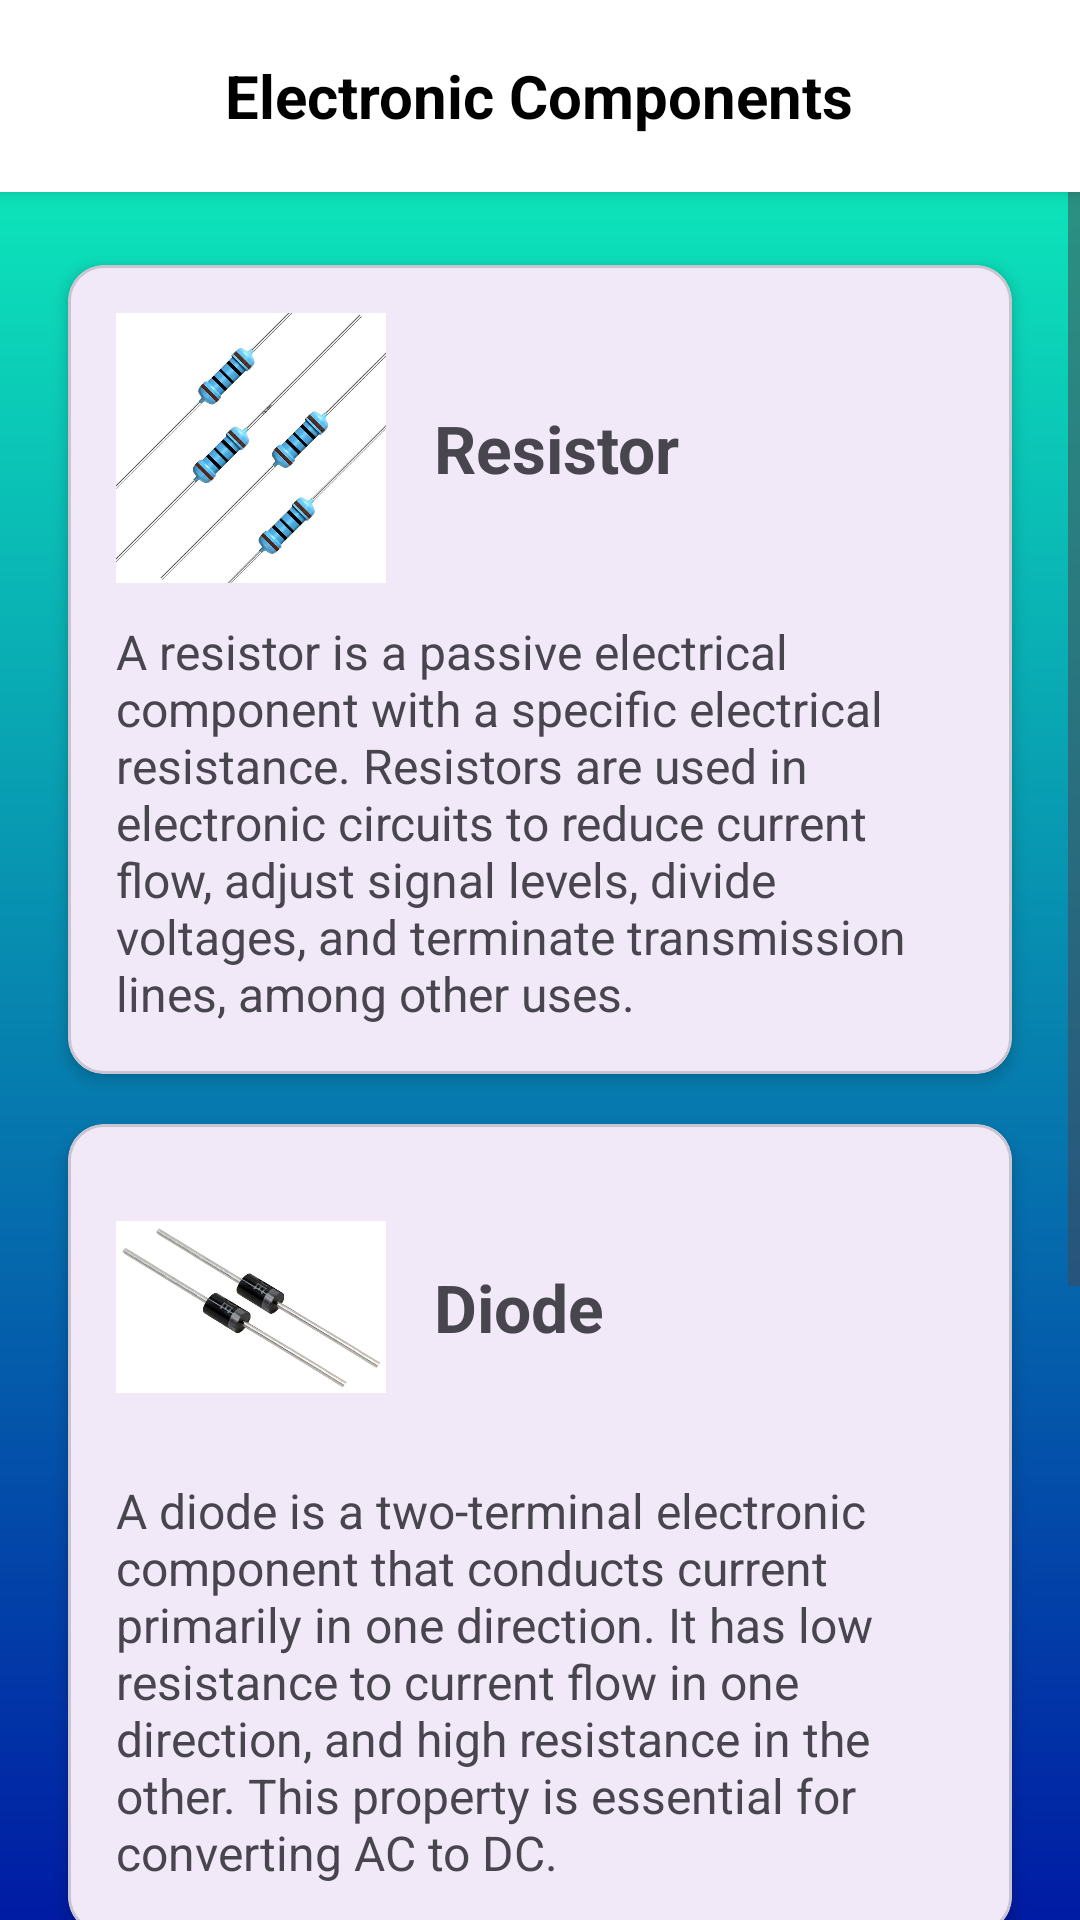

Named icons in this screenshot (1080 × 1920) and their centers, [x,y]:
risistor: [251,448]
